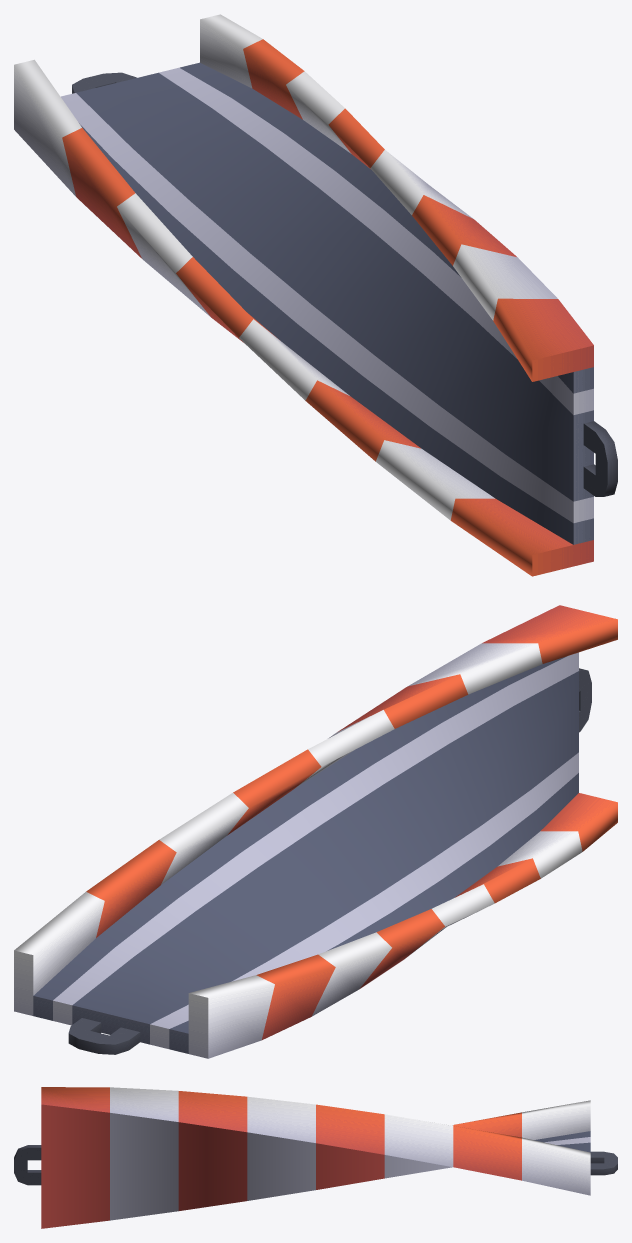
The model's file is track-road-narrow-straight-skew-right-side.glb.
3 renders of one model, top to bottom at view 1: azimuth 30°, elevation 25°; view 2: azimuth 150°, elevation 25°; view 3: azimuth 270°, elevation 25°, orthographic. The views are drawn at different scales.
Parts seen in each view (by area): view 1: track-road-narrow-straight-skew-right-side; view 2: track-road-narrow-straight-skew-right-side; view 3: track-road-narrow-straight-skew-right-side.
Part boxes in pixels (x1,y1,x2,y2): track-road-narrow-straight-skew-right-side: (14, 14, 617, 576); track-road-narrow-straight-skew-right-side: (14, 605, 617, 1058); track-road-narrow-straight-skew-right-side: (14, 1087, 617, 1228).
Bounding box in the file's own units: 3.25 × 3.25 × 13.2.
1 material, 1 textured.
